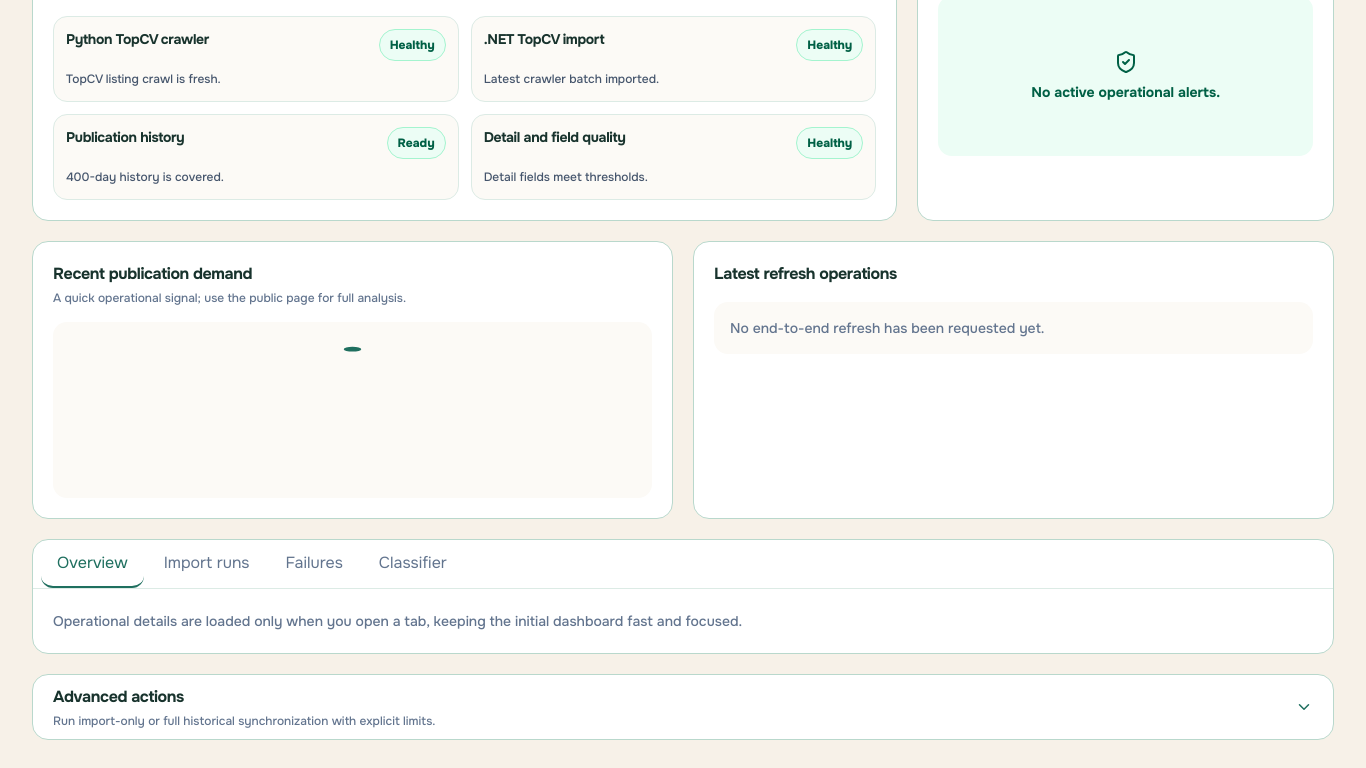
it: AdminMarketPulsePage › focuses, traps and closes the import-run drawer with focus restoration
This screenshot has width=1366, height=768.
(page scrolled)
Click the tab "Import runs".
click(207, 564)  # box [148,540,266,588]
(page scrolled)
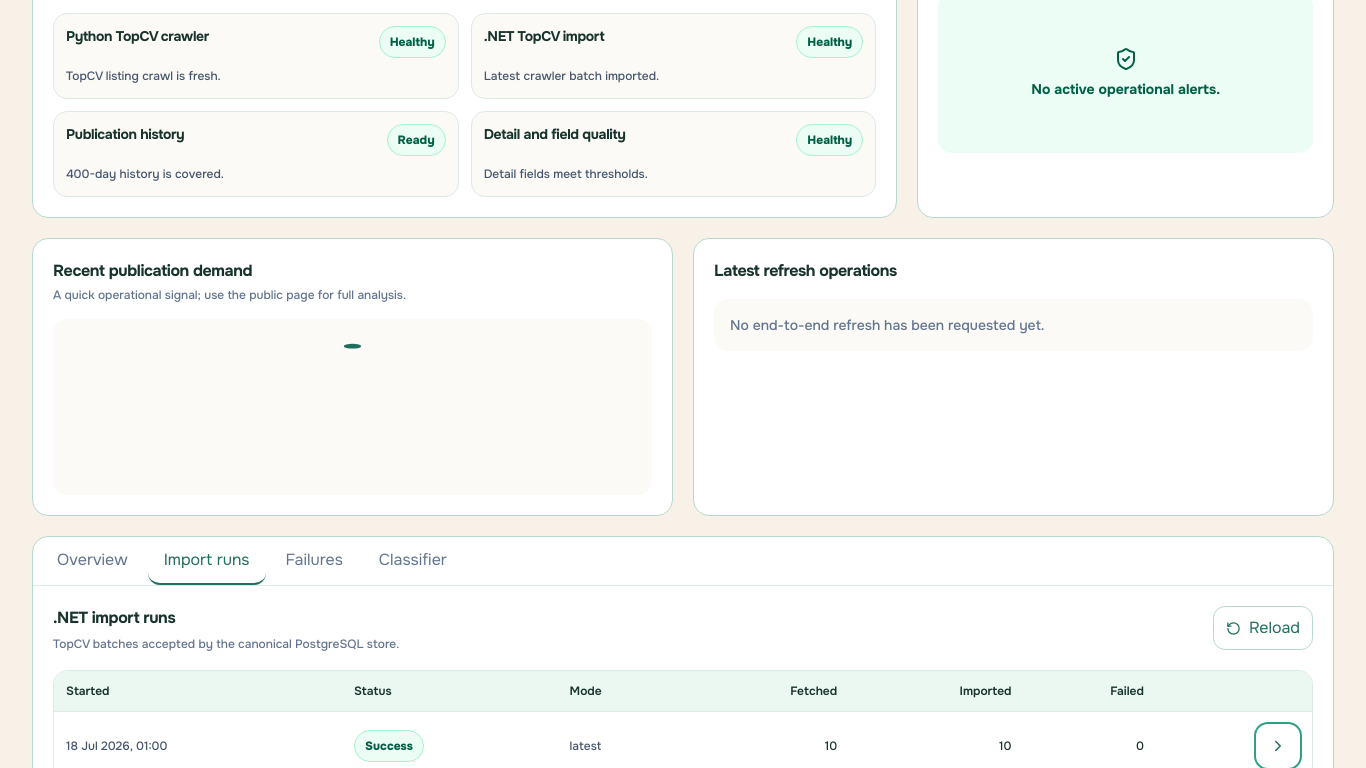
Click the button named "Open import run details".
click(1278, 746)  # box [1256,724,1300,767]
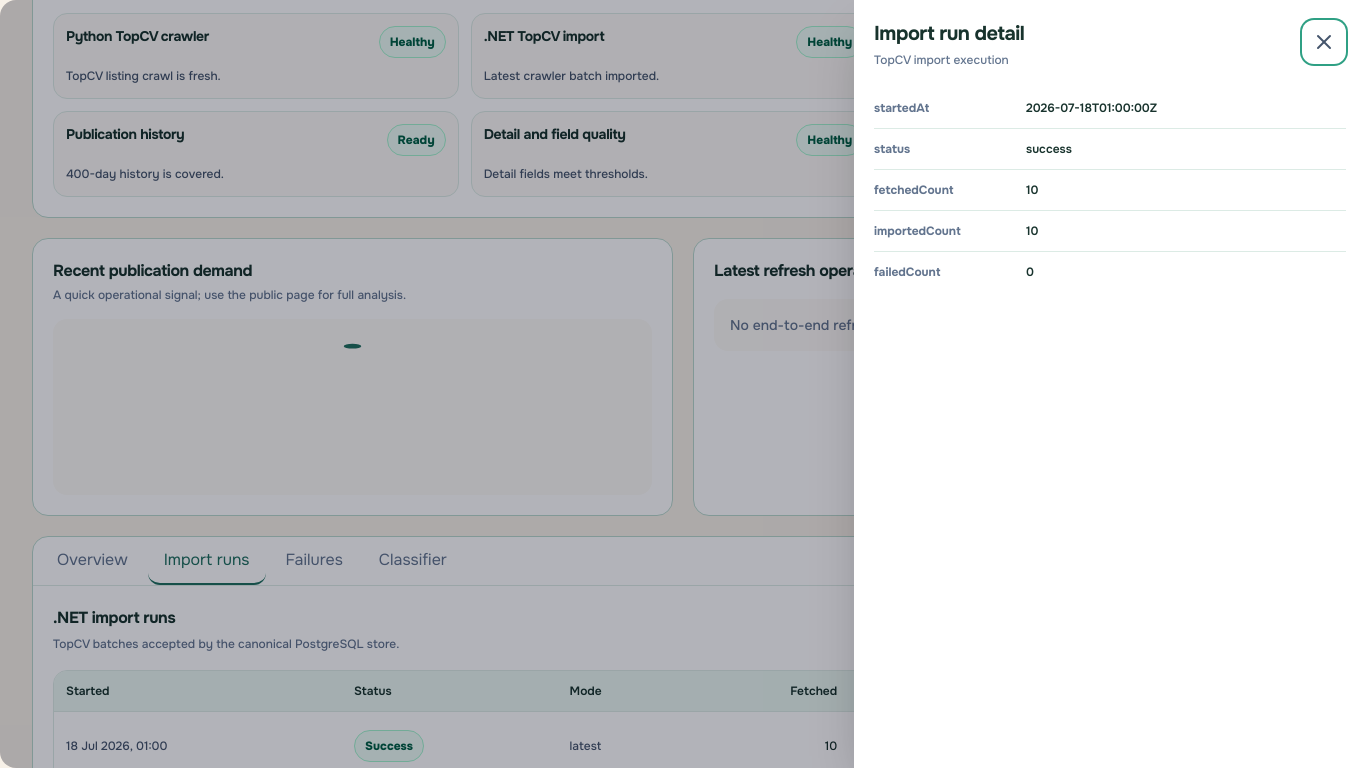
Press Tab
Press Escape
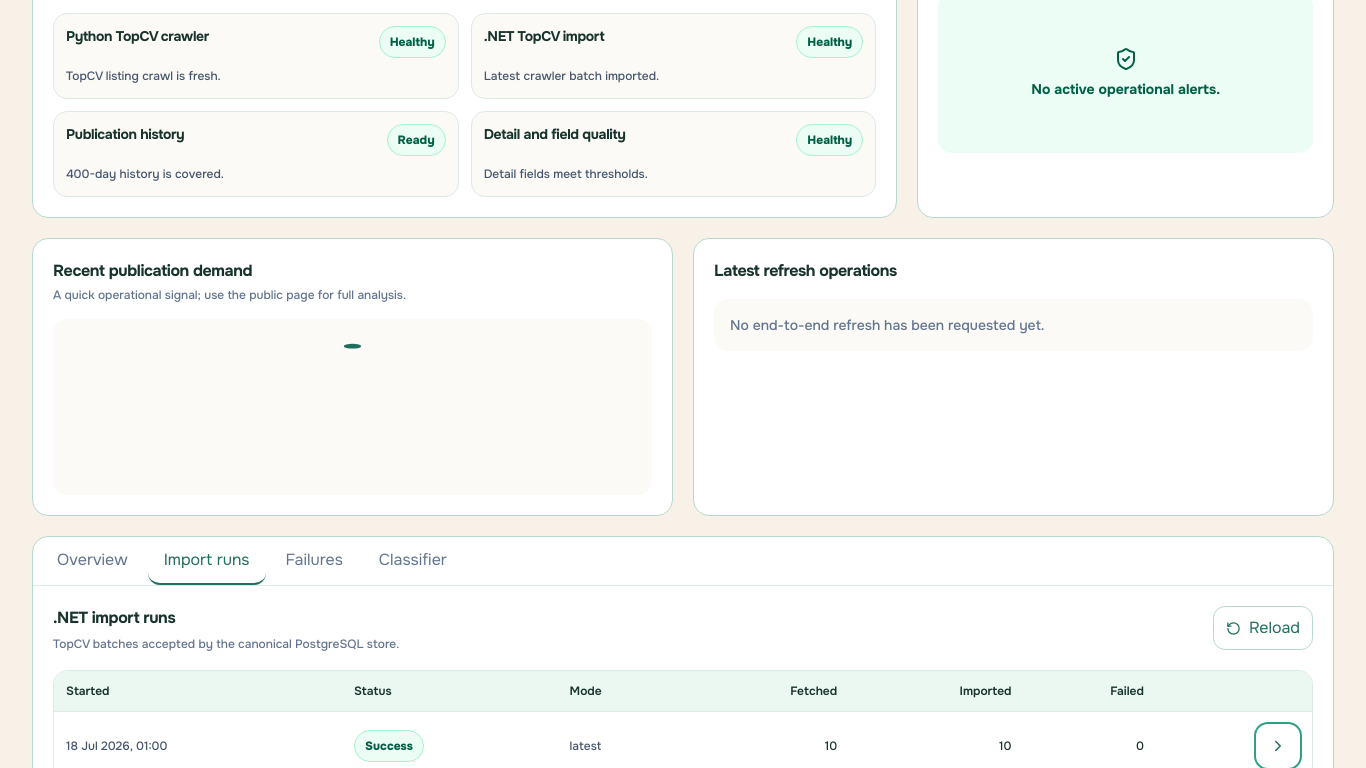
Check: the dialog is gone
